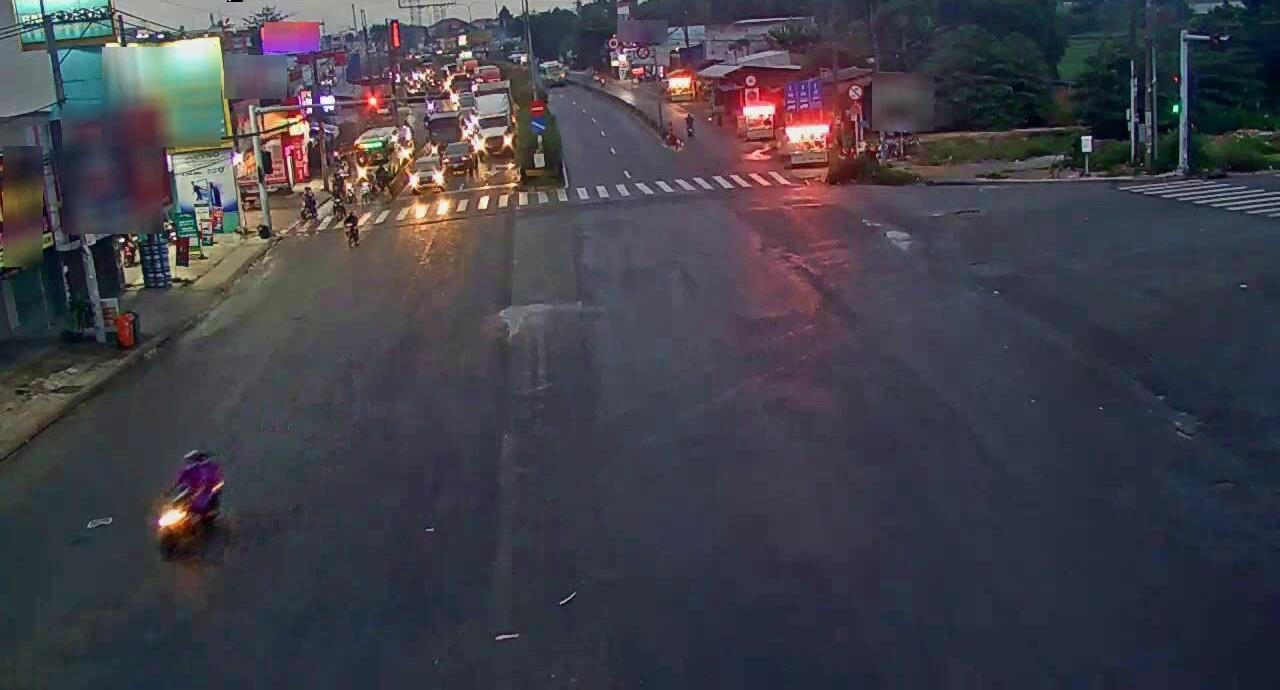xe may: (148, 443, 229, 559)
